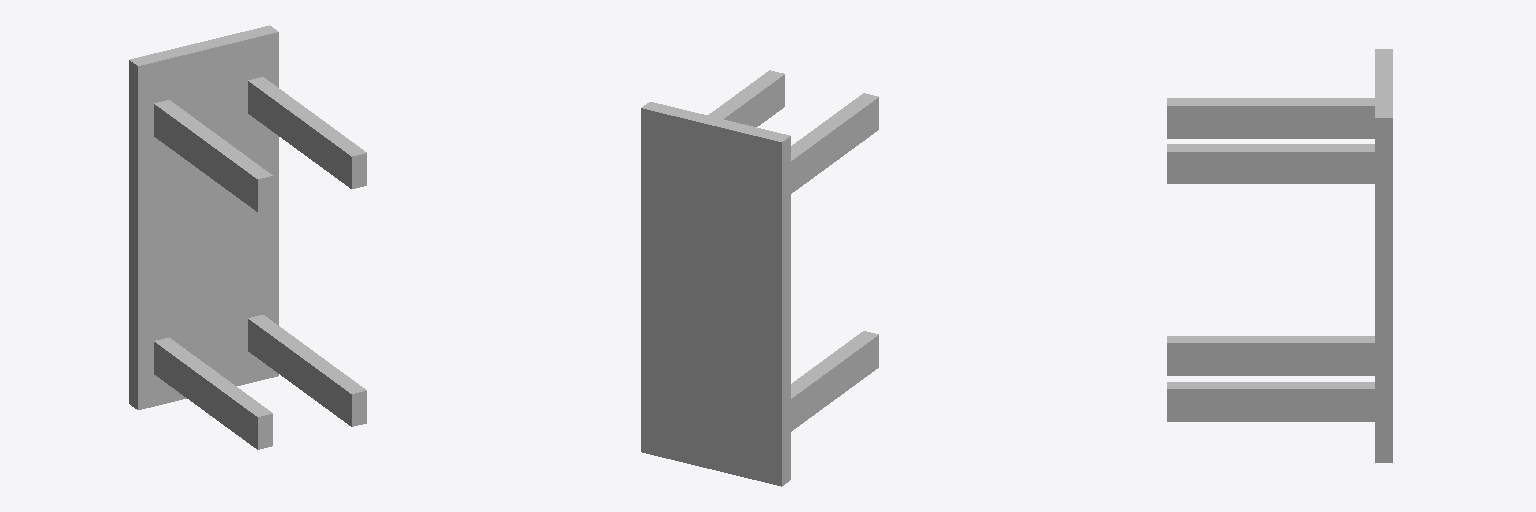
The model's file is Table.obj.
The picture shows the model from 3 angles: view 1: azimuth 30°, elevation 25°; view 2: azimuth 150°, elevation 25°; view 3: azimuth 270°, elevation 25°; orthographic projection.
Visible parts, largest first — view 1: Table; view 2: Table; view 3: Table.
Part boxes in pixels (x1,y1,x2,y2): Table: (129,25,366,449); Table: (641,70,878,486); Table: (1167,49,1392,462).
Bounding box in the file's own units: 1.8 × 4.2 × 2.5.